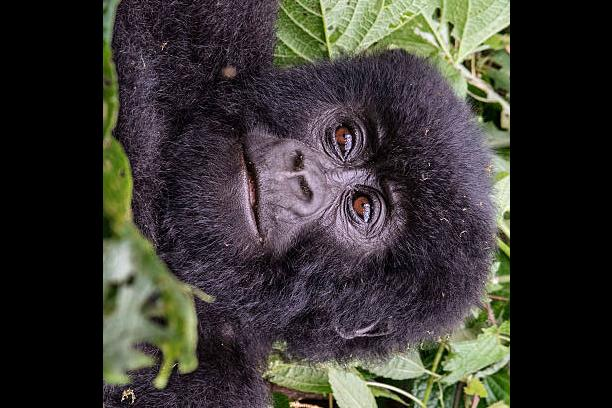goriile_montagne: (154, 35, 510, 408)
